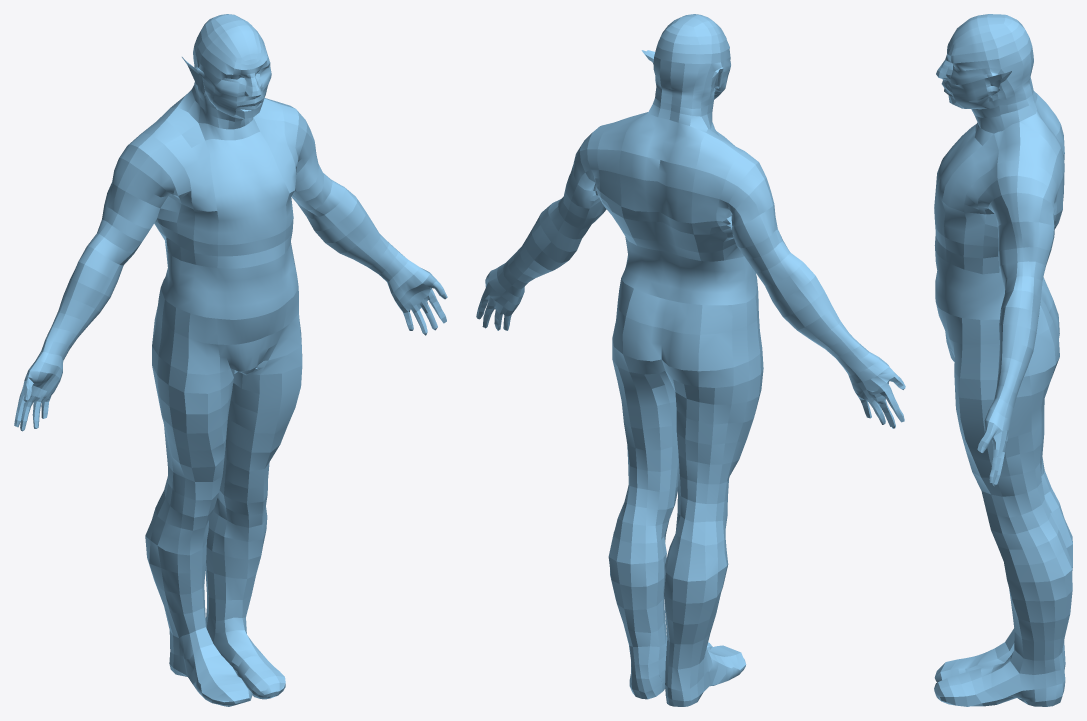
3 views of the same model, side by side, from view 1: azimuth 30°, elevation 25°; view 2: azimuth 150°, elevation 25°; view 3: azimuth 270°, elevation 25° (orthographic). The views are drawn at different scales.
Parts seen in each view (by area): view 1: split_parent_0; view 2: split_parent_0; view 3: split_parent_0.
Boxes of the visible parts, x1,y1,x2,y2 form: split_parent_0: [14, 14, 447, 706]; split_parent_0: [476, 14, 905, 706]; split_parent_0: [934, 14, 1072, 706].
Bounding box in the file's own units: 0.68 × 1 × 0.1865.
